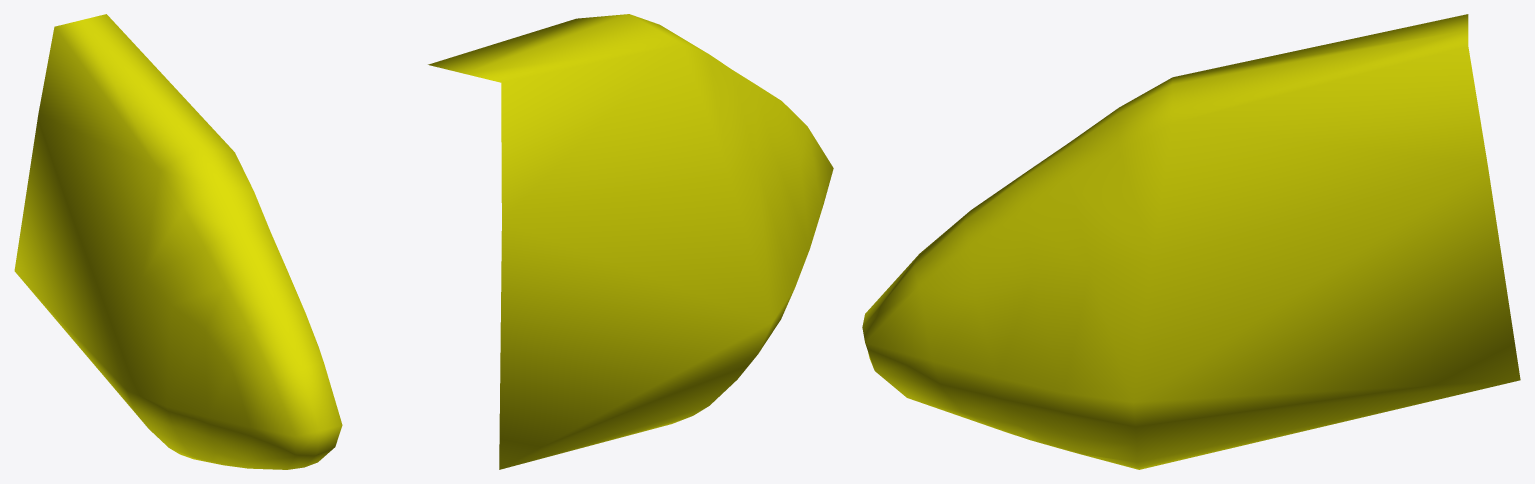
Rendered from Nose_15.glb.
The picture shows the model from 3 angles, left to right: view 1: azimuth 30°, elevation 25°; view 2: azimuth 150°, elevation 25°; view 3: azimuth 270°, elevation 25°; orthographic projection. The views are drawn at different scales.
Size of the model in its own units: 9.62 by 18.2 by 25.19.
